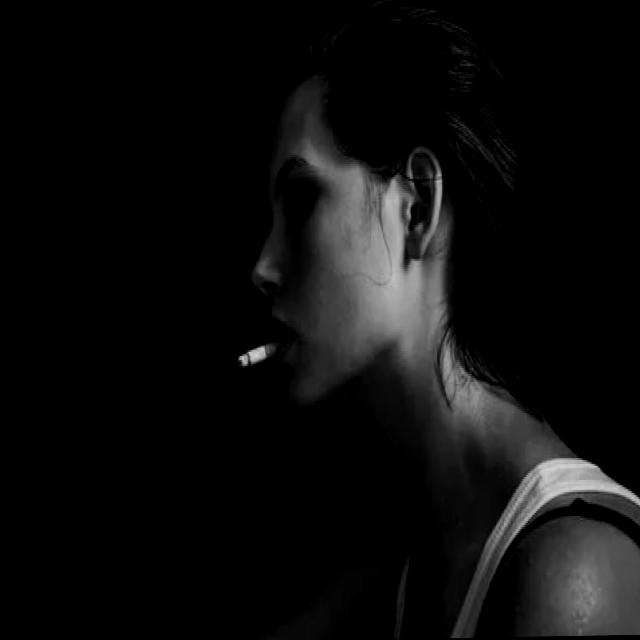smoke: (232, 326, 290, 382)
